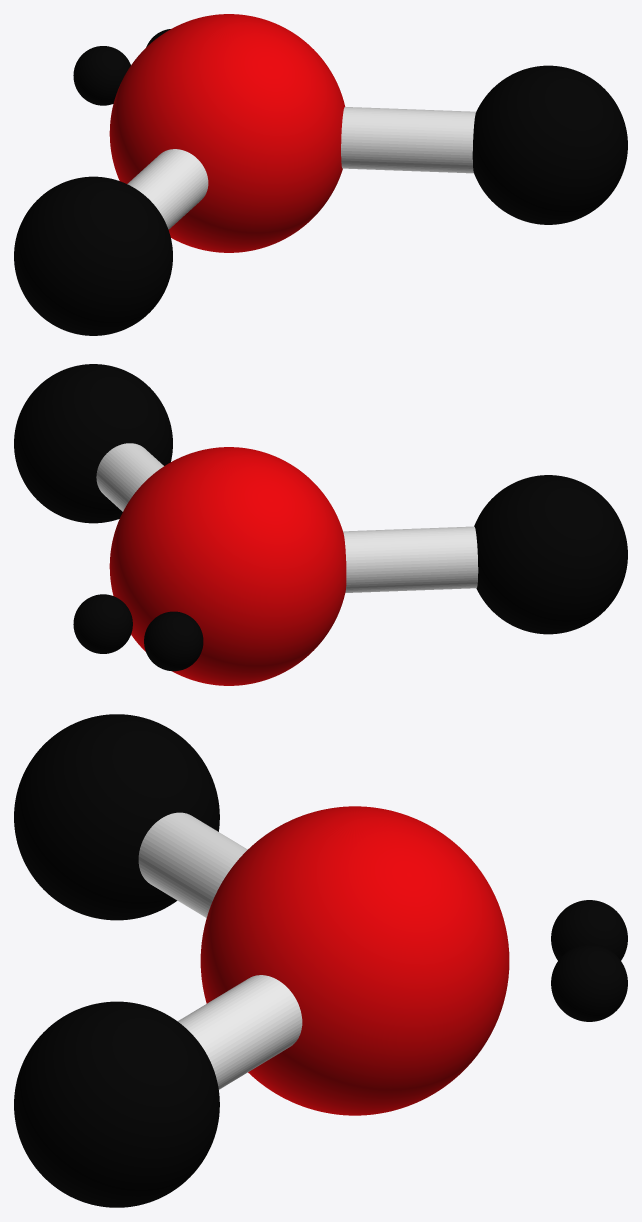
File: bent3.glb
3 renders of one model, top to bottom at view 1: azimuth 30°, elevation 25°; view 2: azimuth 150°, elevation 25°; view 3: azimuth 270°, elevation 25°, orthographic. The views are drawn at different scales.
Visible parts, largest first — view 1: Sphere, Sphere.001, Sphere.003, Sphere.005; view 2: Sphere, Sphere.003, Sphere.001, Sphere.005; view 3: Sphere, Sphere.001, Sphere.003, Sphere.005.
Boxes of the visible parts, x1,y1,x2,y2 form: Sphere: (109, 14, 345, 252); Sphere.001: (341, 65, 627, 224); Sphere.003: (14, 149, 208, 335); Sphere.005: (73, 29, 170, 105); Sphere: (109, 447, 346, 685); Sphere.003: (343, 475, 627, 634); Sphere.001: (14, 364, 172, 523); Sphere.005: (73, 594, 203, 671); Sphere: (200, 806, 509, 1115); Sphere.001: (14, 975, 302, 1207); Sphere.003: (14, 714, 247, 920); Sphere.005: (551, 900, 627, 1021).
Size of the model in its own units: 8.54 by 3 by 5.92.
